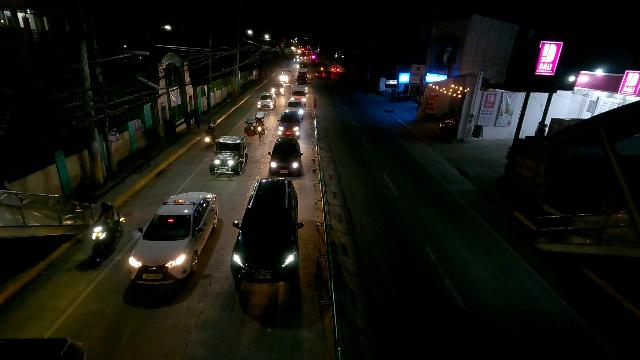car: (128, 191, 218, 284), (231, 178, 304, 290), (268, 137, 304, 175), (278, 111, 300, 138), (285, 98, 305, 118), (257, 91, 276, 109), (272, 81, 286, 96), (295, 73, 308, 85), (316, 70, 324, 78)
jeepney: (209, 135, 248, 175)
motorcycle: (89, 201, 124, 263)
van: (291, 84, 307, 102)
